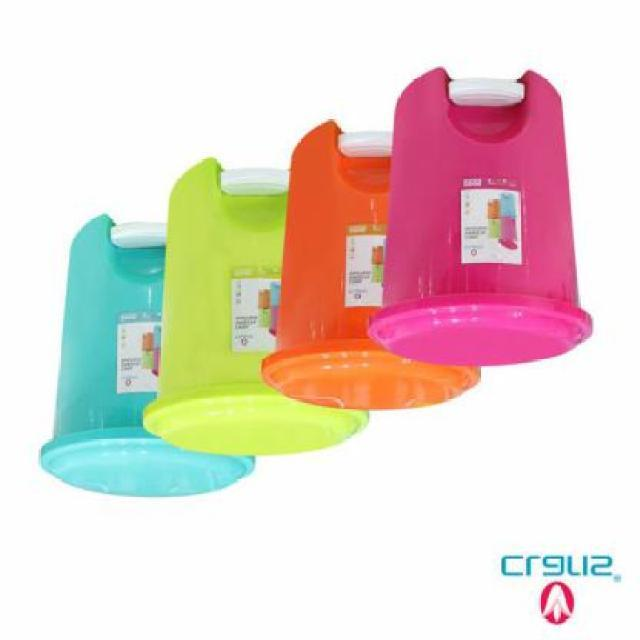garbage container: (363, 44, 602, 373), (136, 134, 262, 457), (34, 200, 163, 505), (260, 119, 391, 414)
